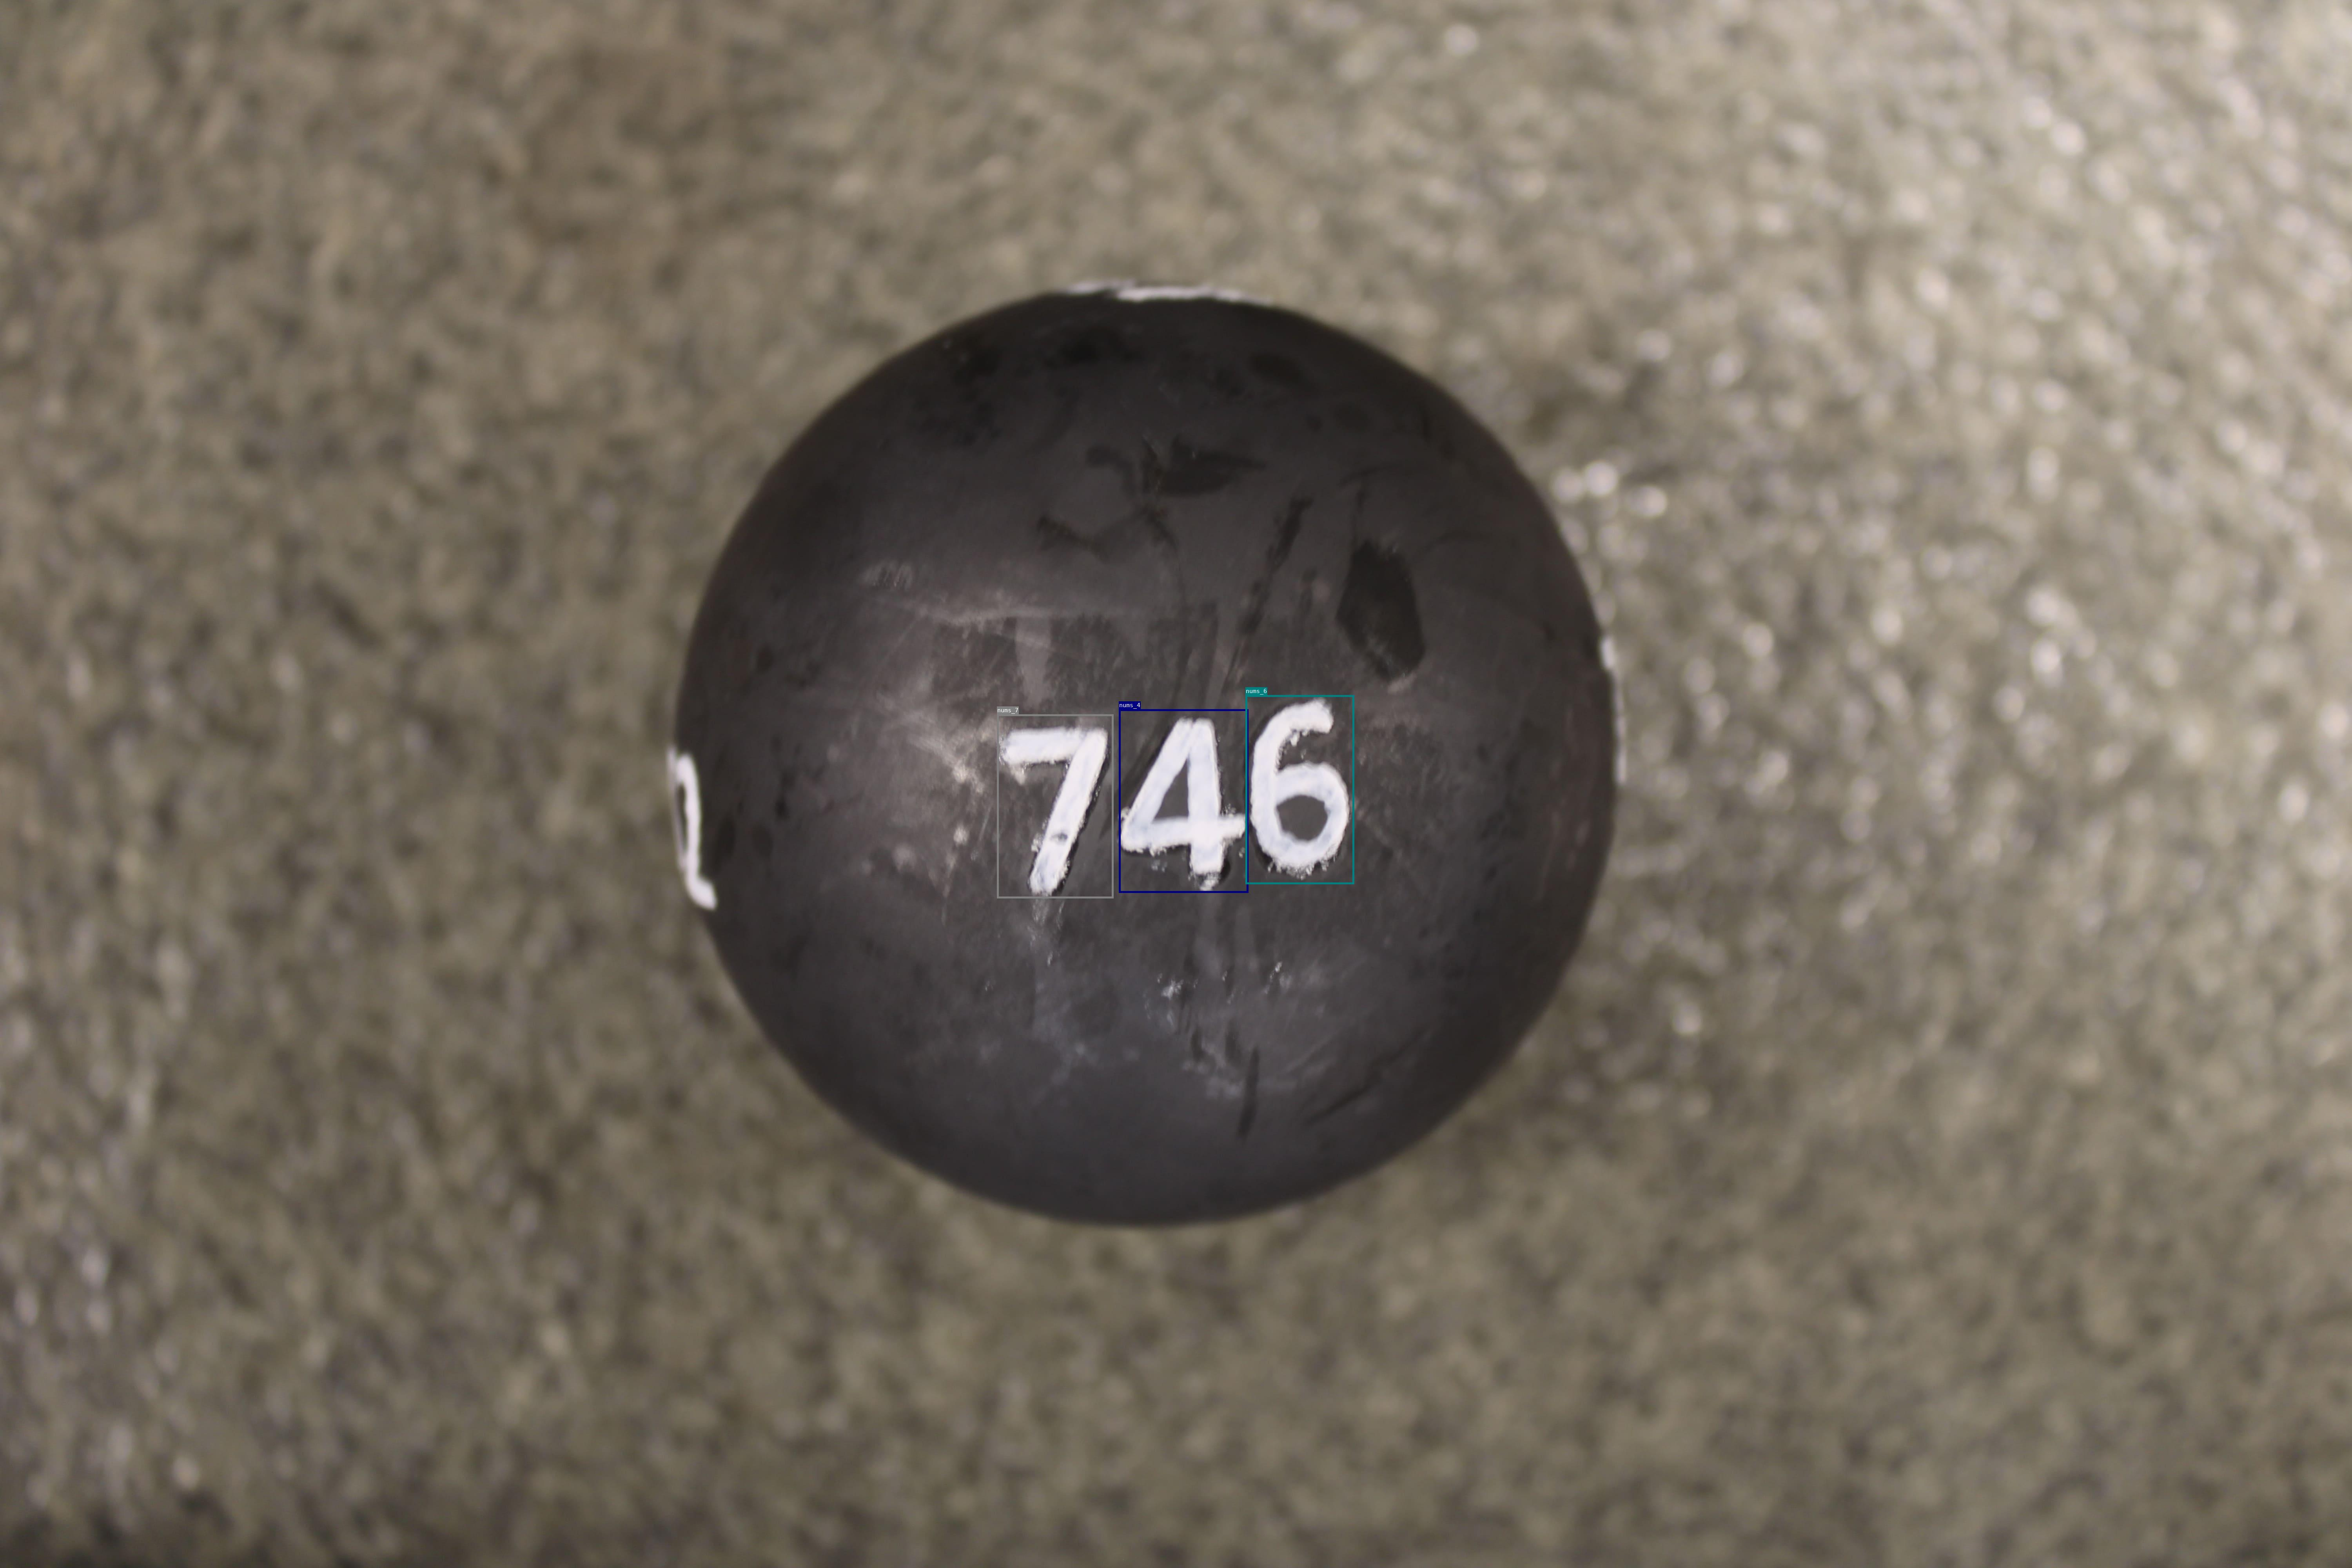nums_4: (1118, 709, 1248, 892)
nums_6: (1246, 695, 1355, 884)
nums_7: (998, 714, 1113, 898)
